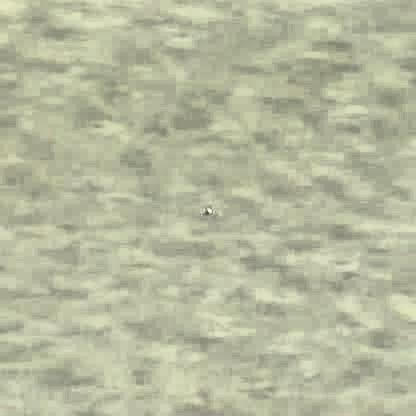golfball: (204, 202, 209, 212)
